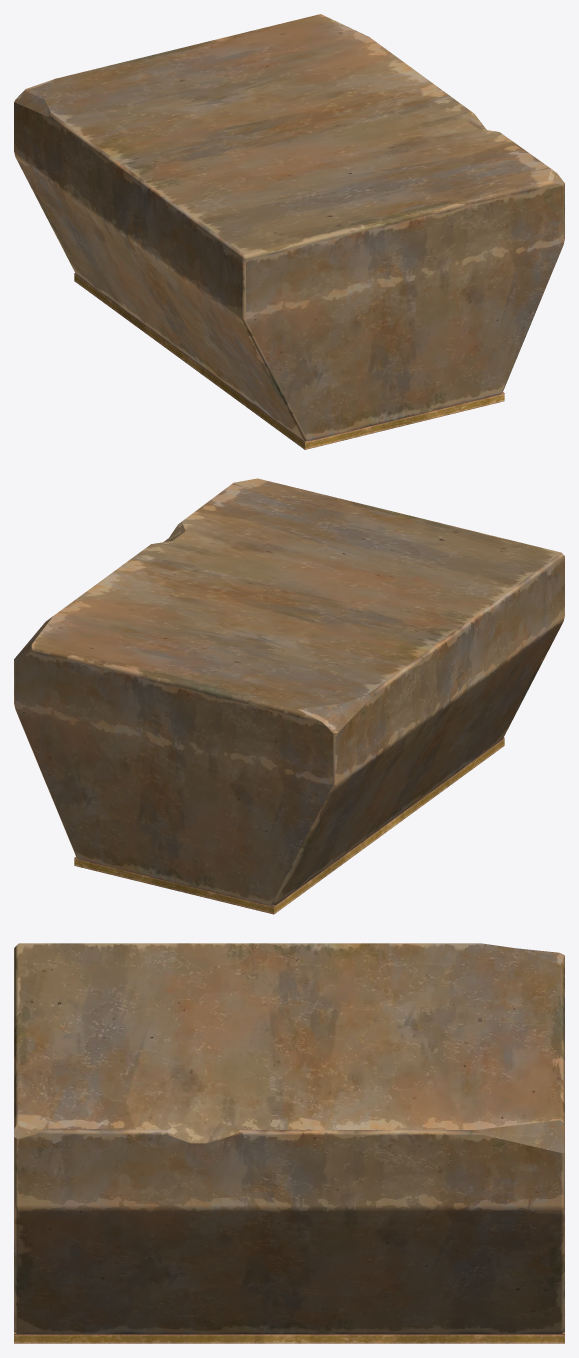
3 renders of one model, top to bottom at view 1: azimuth 30°, elevation 25°; view 2: azimuth 150°, elevation 25°; view 3: azimuth 270°, elevation 25°, orthographic. The views are drawn at different scales.
Visible parts, largest first — view 1: SM_DK_2m_WallTop_01_LOD0; view 2: SM_DK_2m_WallTop_01_LOD0; view 3: SM_DK_2m_WallTop_01_LOD0.
Boxes of the visible parts, x1,y1,x2,y2 form: SM_DK_2m_WallTop_01_LOD0: (14,14,564,449); SM_DK_2m_WallTop_01_LOD0: (14,478,564,914); SM_DK_2m_WallTop_01_LOD0: (14,943,564,1343).
Size of the model in its own units: 3.24 by 2 by 4.
1 material, 1 textured.
